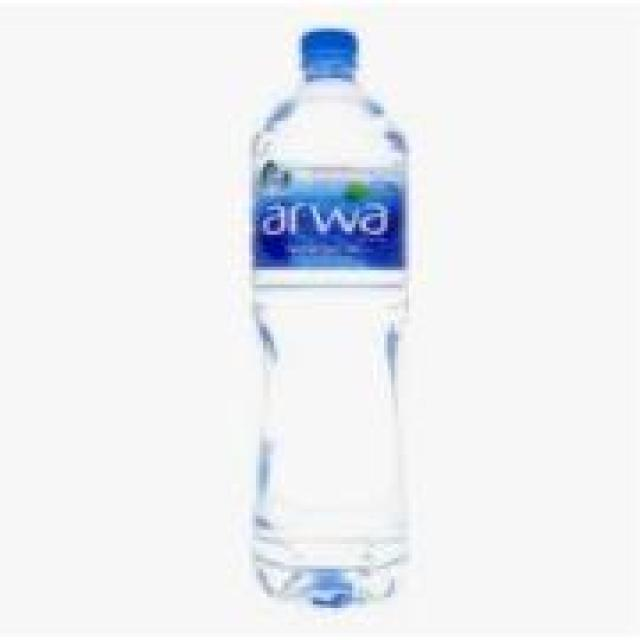bottle: (238, 16, 423, 613)
